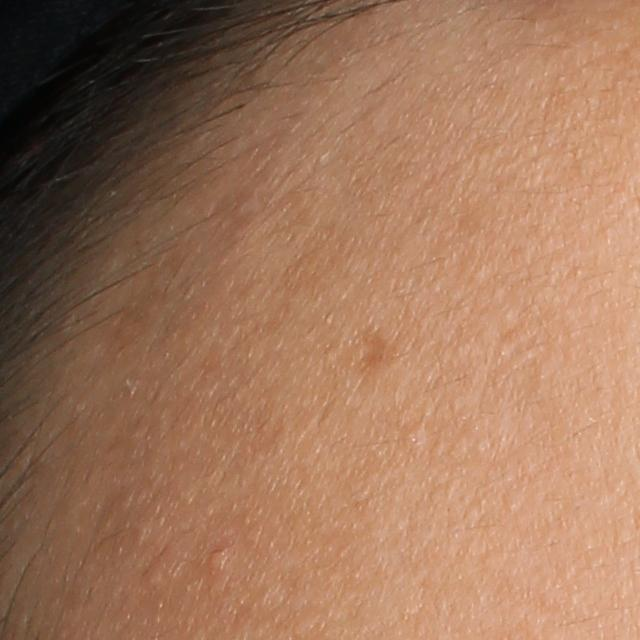comedo: (403, 424, 429, 450), (207, 547, 225, 569)
